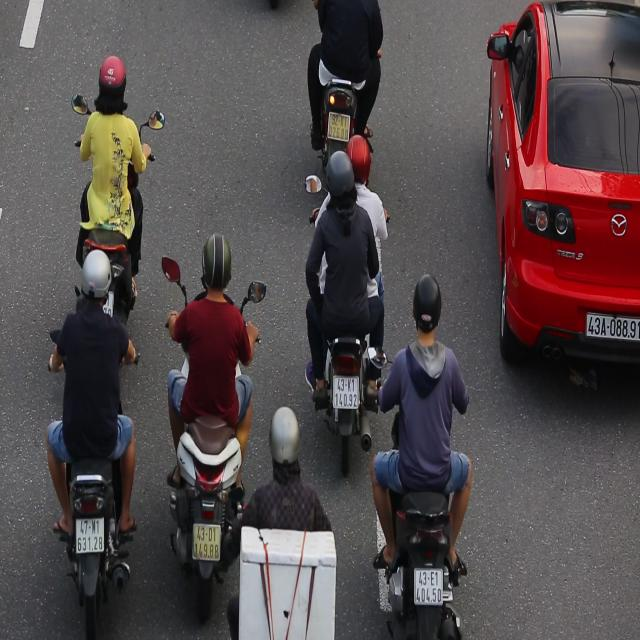motorbike: (36, 242, 142, 640), (375, 260, 475, 640), (154, 224, 255, 598), (297, 142, 393, 473)
